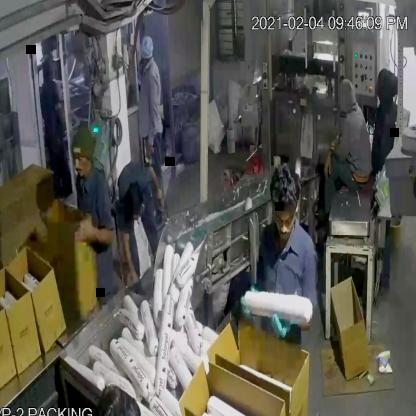glove: (272, 296, 308, 346), (238, 285, 262, 327)
no_glove: (68, 204, 118, 256), (145, 76, 163, 154), (320, 136, 341, 187), (120, 221, 137, 278), (145, 154, 163, 204)
